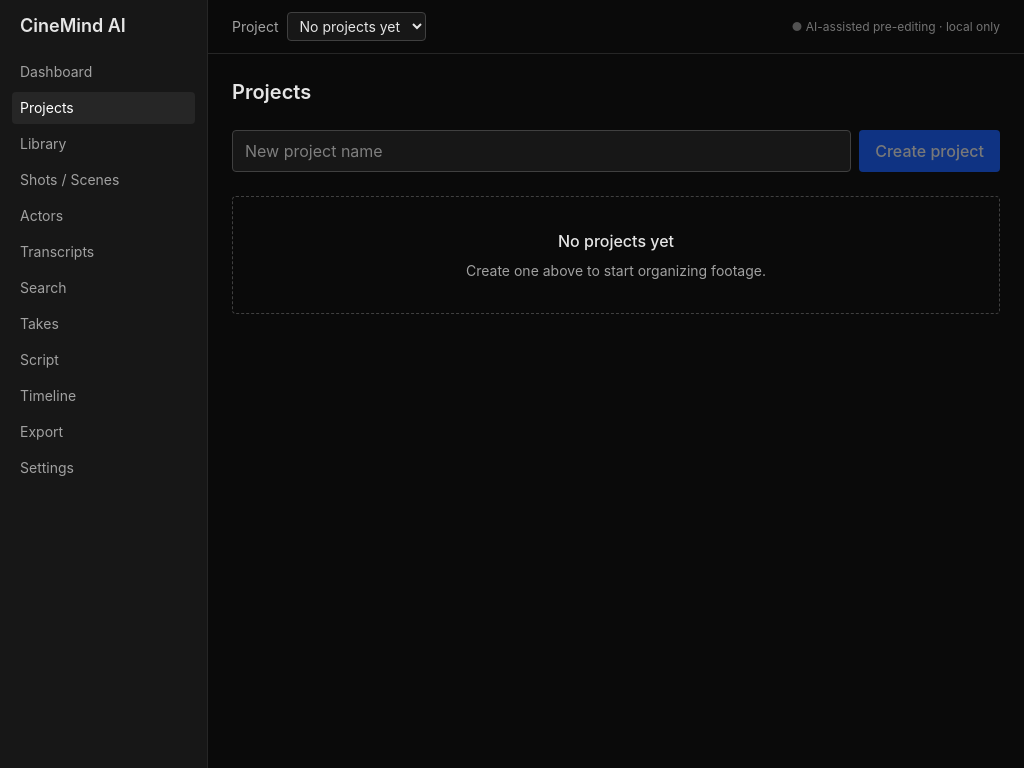
shows an empty state, then creates and opens a project
The image size is (1024, 768).
Expected: the text "No projects yet" is shown, [558,231,674,251]
In the field labelled "project name": (542, 151) [232,130,851,172], type "Short film"
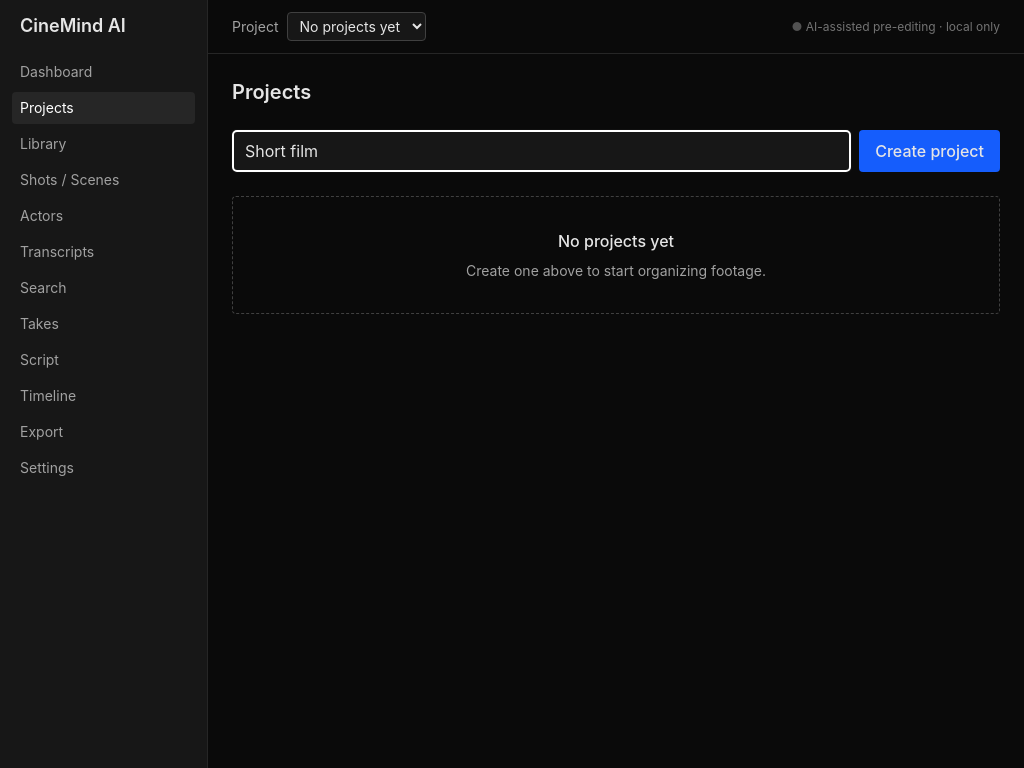
Click the button "Create project": (930, 151) [859,130,1000,172]
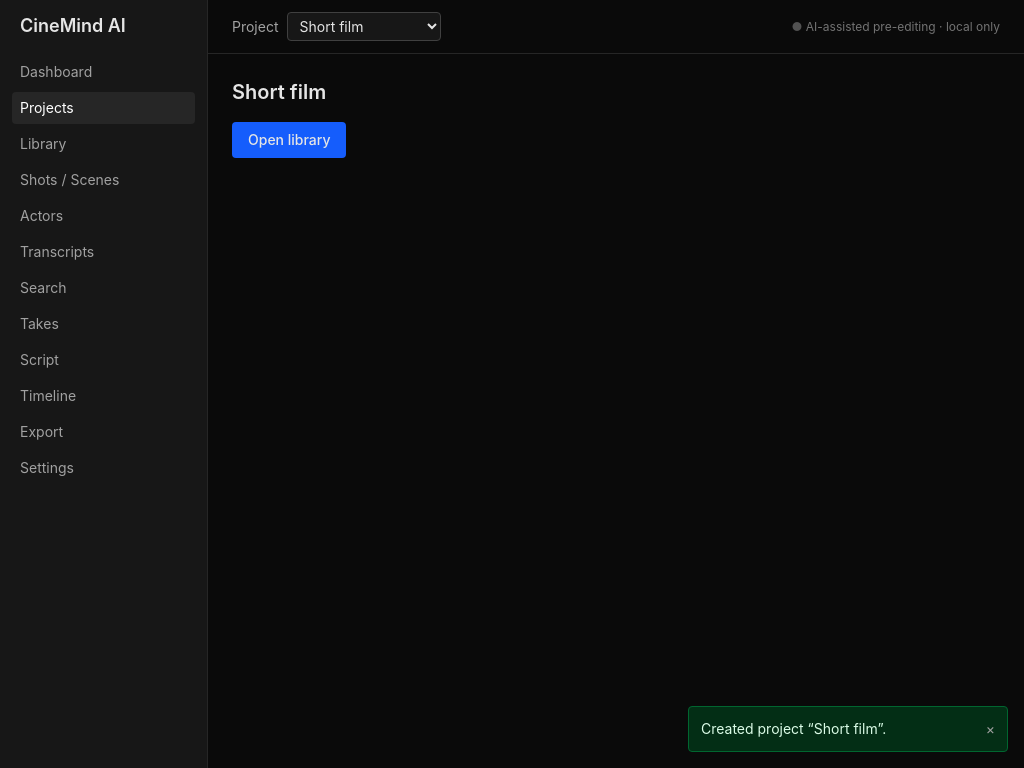
Expected: the link "Library" is shown, [20,135,66,152]
Expected: the heading "Short film" is shown, [232,80,326,104]
Expected: the message shows "Created project", [701,720,886,737]
